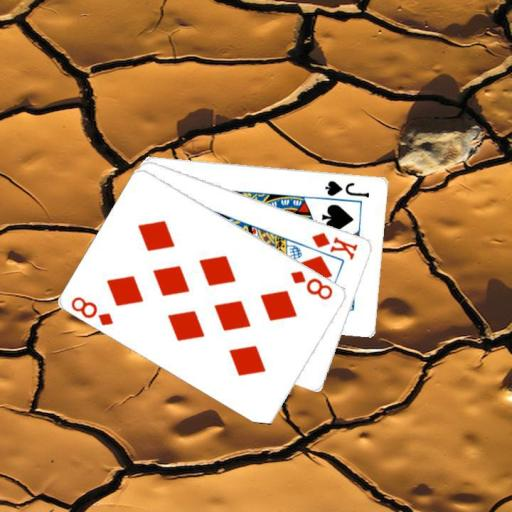8D: (287, 267, 335, 302), (68, 293, 115, 327)
JS: (322, 177, 371, 198)
KD: (309, 229, 360, 261)
